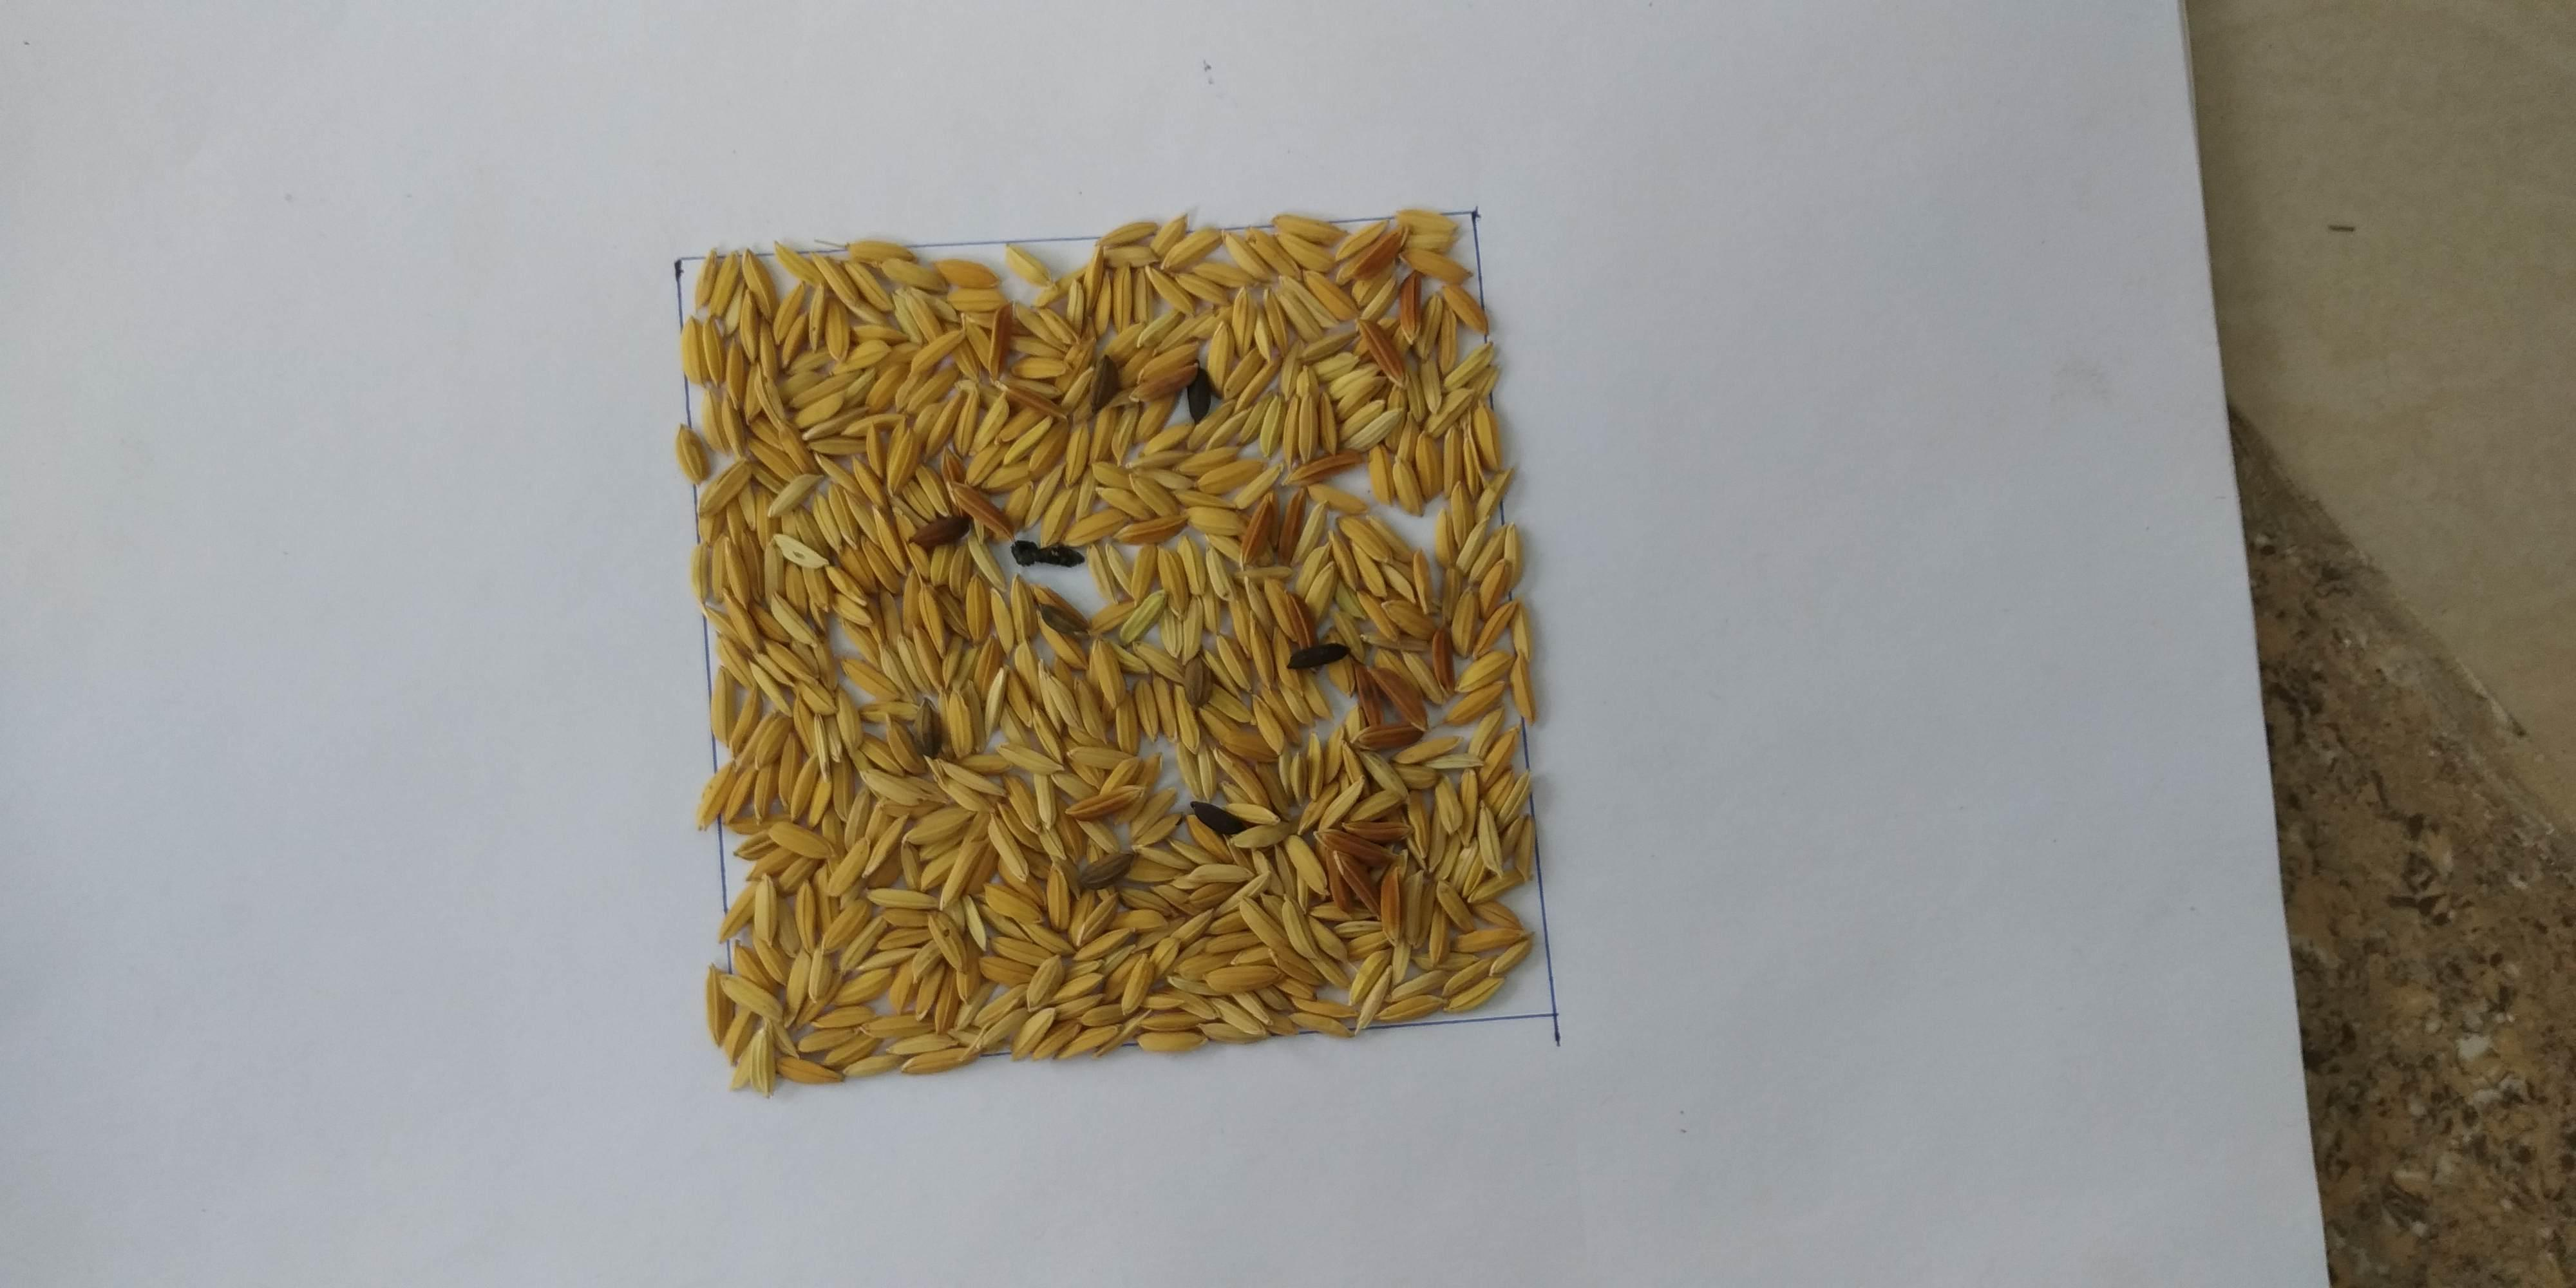Partialimpure: (723, 266, 1469, 1012)
